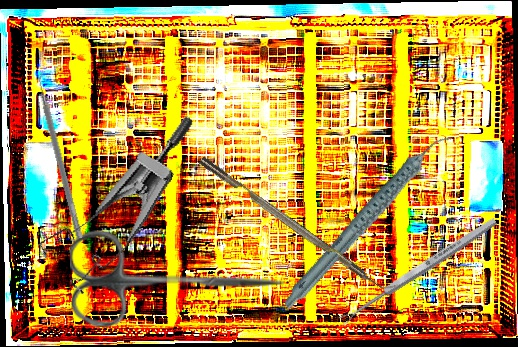Chopper: (198, 146, 400, 301)
Handpiece: (255, 131, 481, 312)
Iris Scissors: (70, 230, 284, 327)
Spatula Surgical: (32, 71, 90, 239)
Speculum: (27, 82, 197, 310)
Surgical Spoon: (337, 215, 499, 327)
